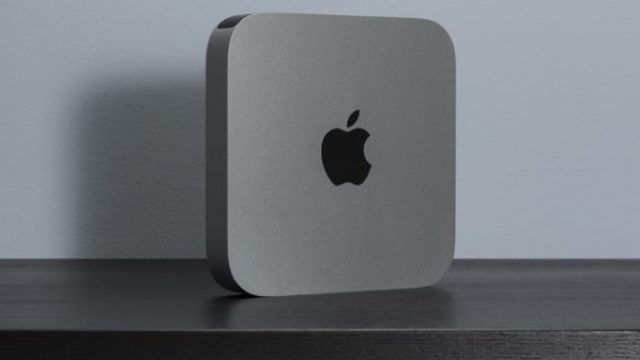apple: (316, 106, 393, 200)
